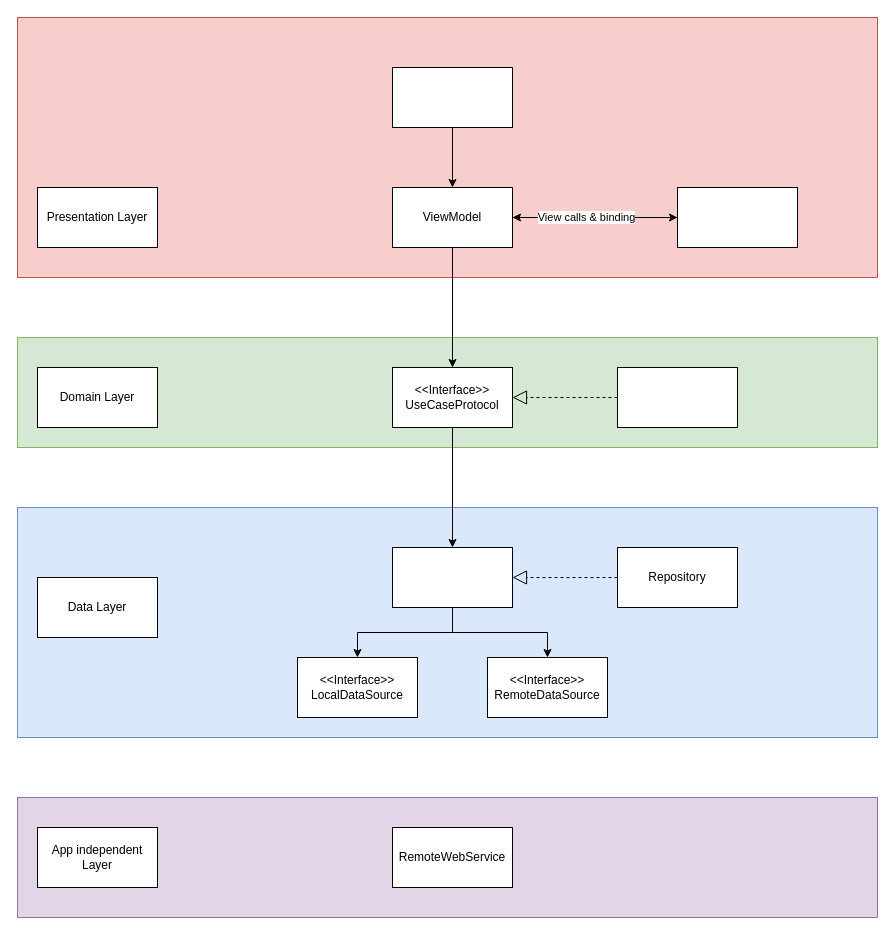
Image size: 895x935. Some labels were removed from this diagram. Each missing label, with the centre of its shape:
"<<Interface>> RepositoryProtocol" goes at [452,577].
"Router" goes at [452,97].
"UseCase" goes at [677,397].
"View" goes at [737,217].
